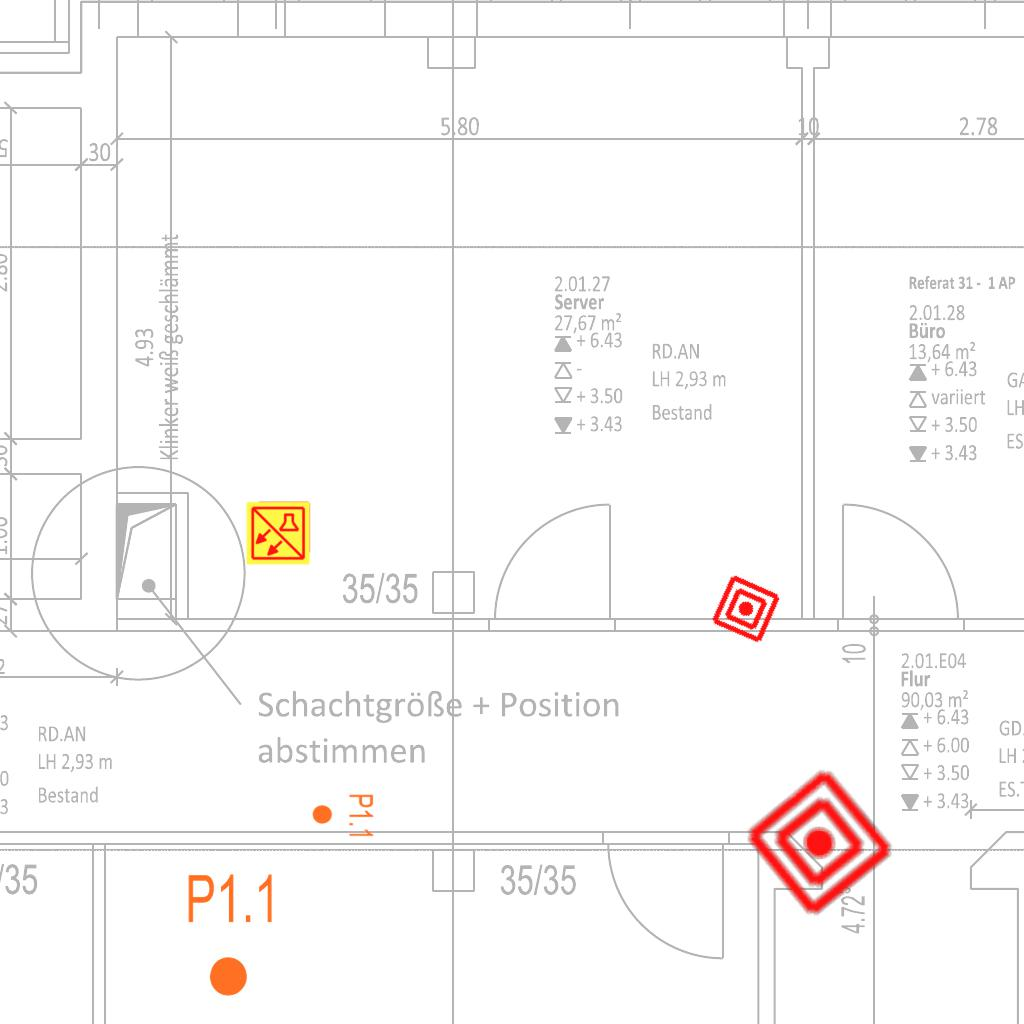Downlight_LED_Einbauleuchten_Flur: (185, 871, 278, 999), (311, 793, 375, 839)
NAM-Nichtautomatischer_Melder: (740, 763, 899, 922), (709, 572, 783, 646)
OKW_Multisensormelder_(Kombination_optischer_Rauch-Kahlenmonoxid_Waerme-Melder): (245, 500, 311, 566)
